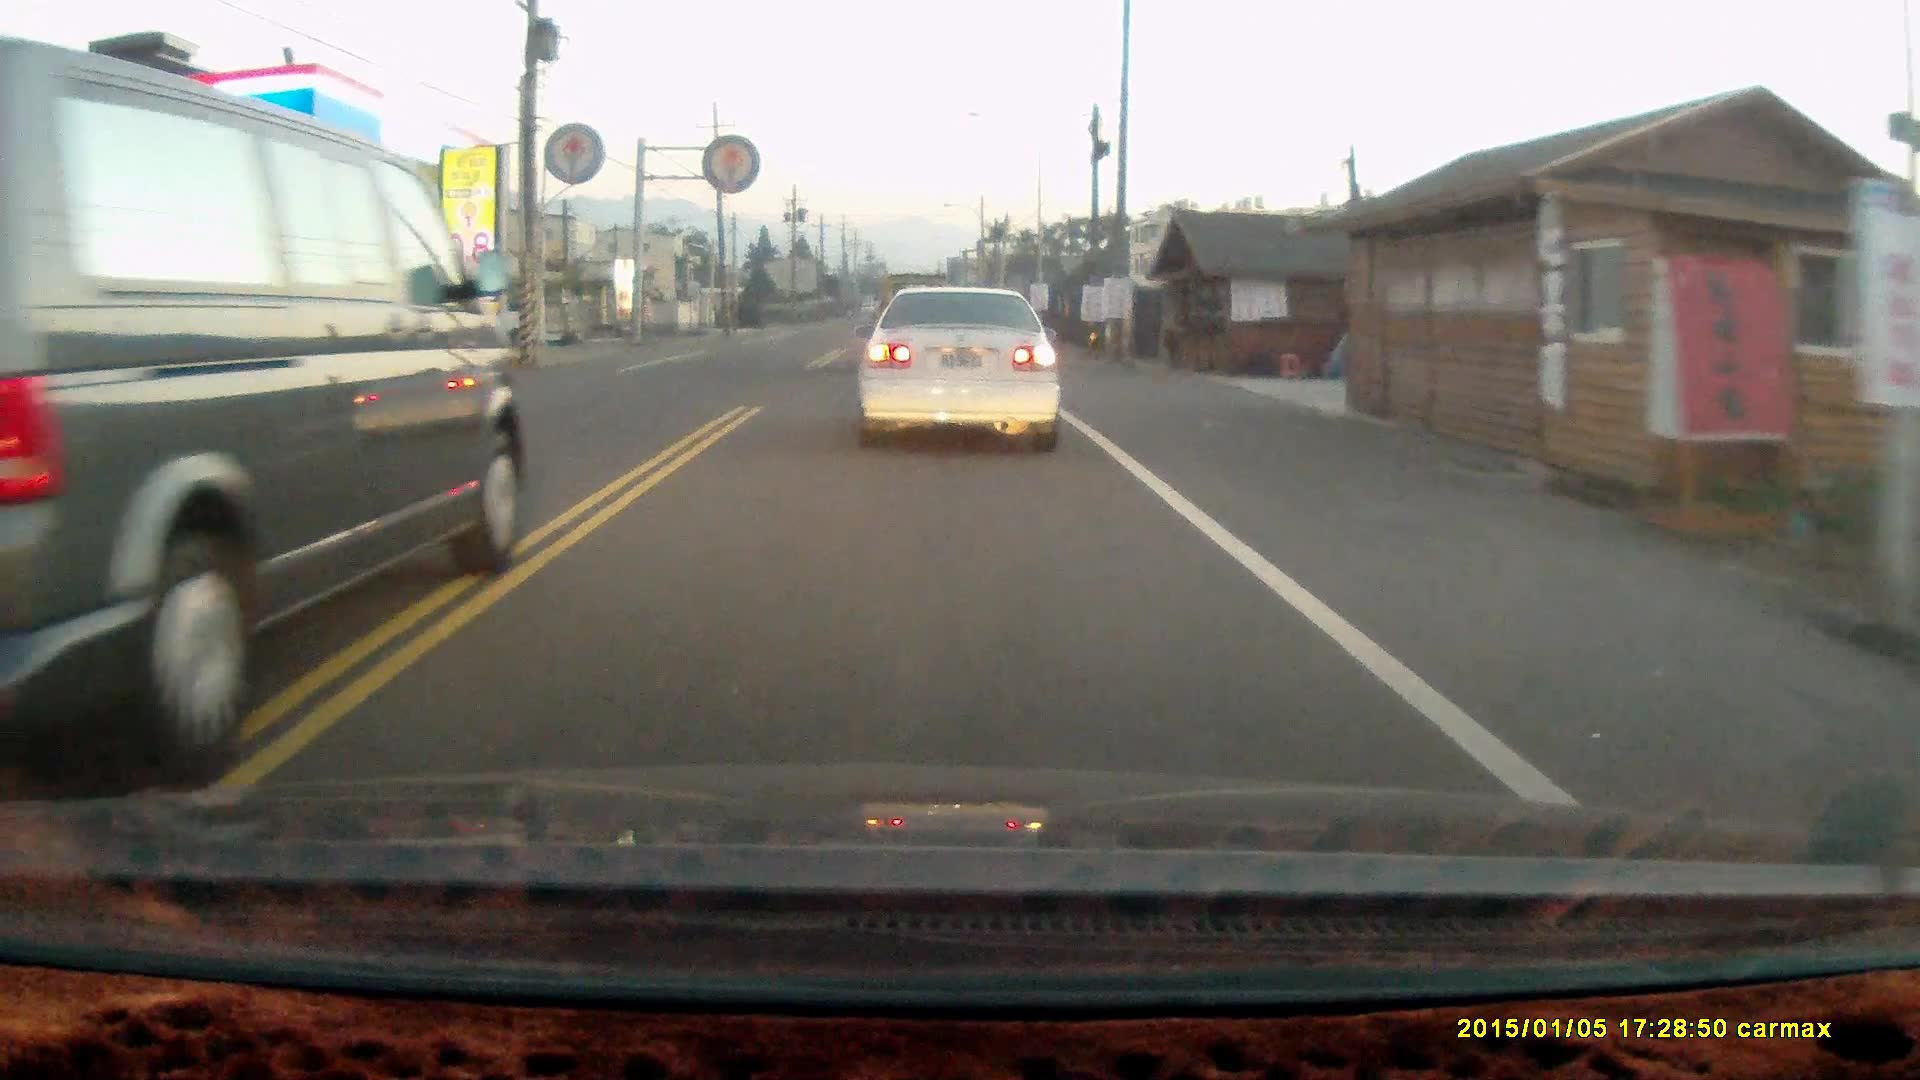vehicle: (1, 51, 527, 760), (857, 280, 1067, 456)
